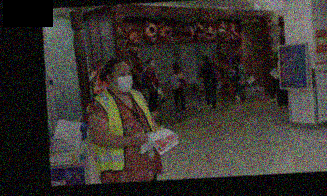with_mask: (110, 67, 134, 93), (149, 59, 155, 66)
